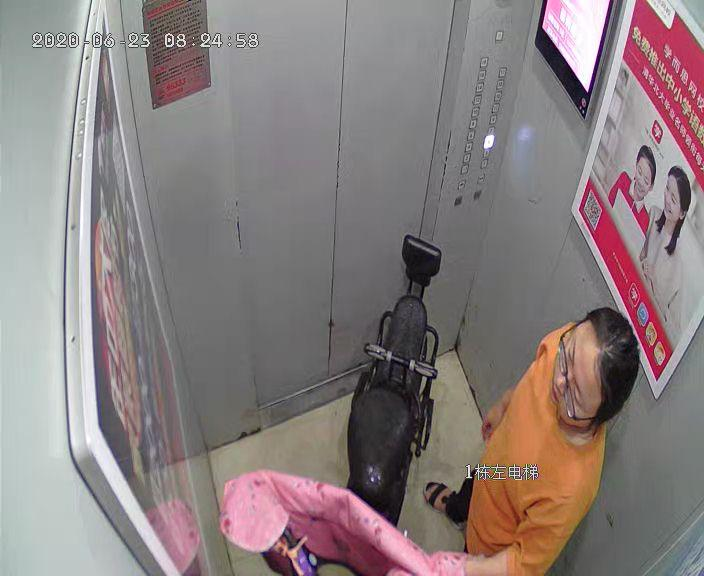Electric-bicycle: (271, 233, 441, 571)
